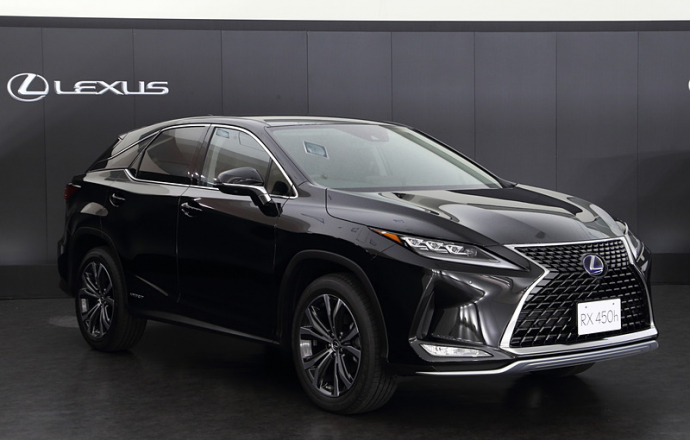pickup: (60, 113, 659, 414)
